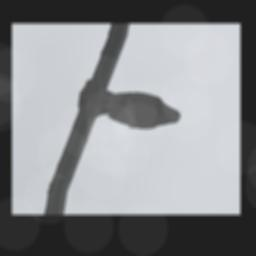Crow: (72, 79, 186, 138)
